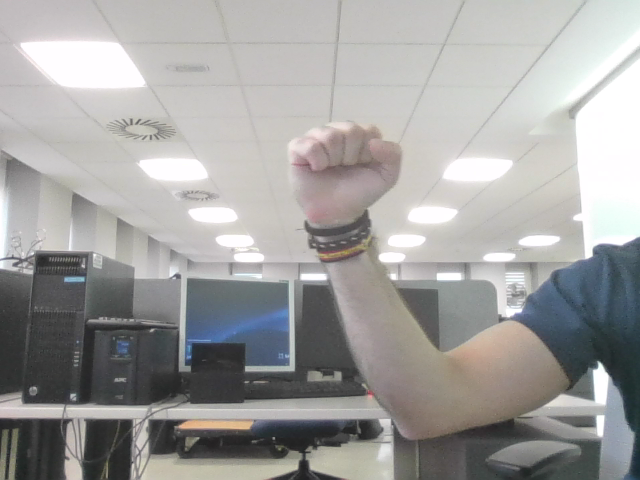Puño: (302, 130, 390, 199)
